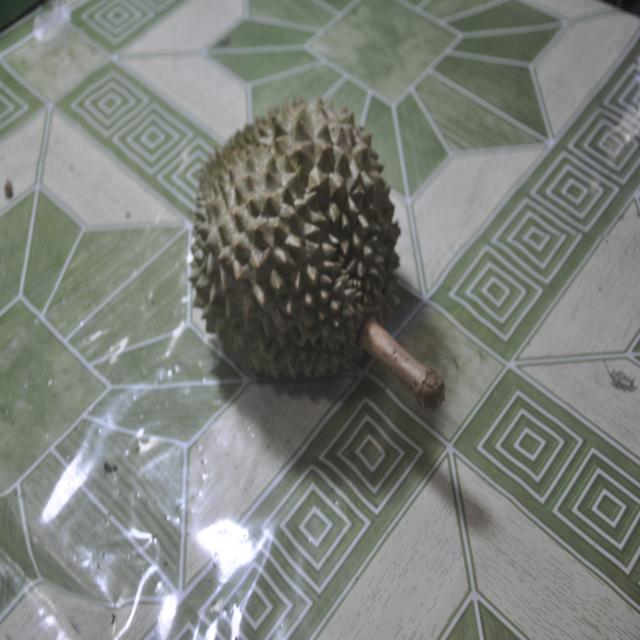mature: (191, 99, 444, 408)
